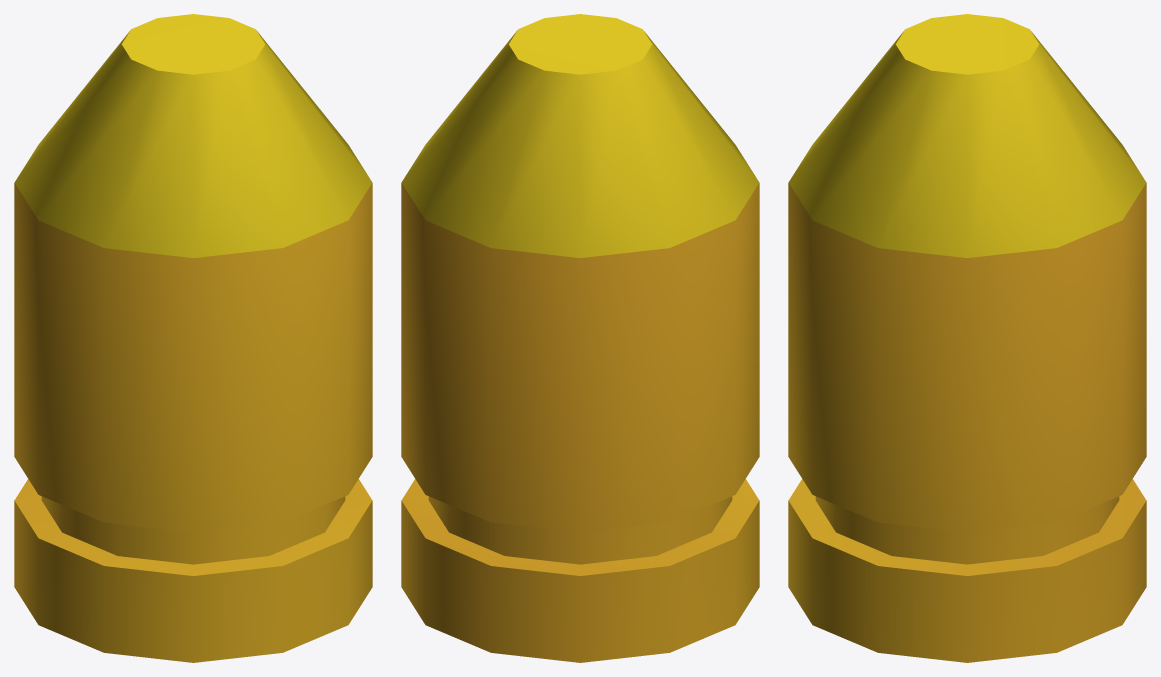
File: Missile.fbx
3 views of the same model, side by side, from view 1: azimuth 30°, elevation 25°; view 2: azimuth 150°, elevation 25°; view 3: azimuth 270°, elevation 25° (orthographic).
Visible parts, largest first — view 1: Missile; view 2: Missile; view 3: Missile.
Part boxes in pixels (x1=…): Missile: x1=14, y1=14, x2=372, y2=662; Missile: x1=401, y1=14, x2=759, y2=662; Missile: x1=788, y1=14, x2=1146, y2=662.
Size of the model in its own units: 31.07 by 51.99 by 31.07.
